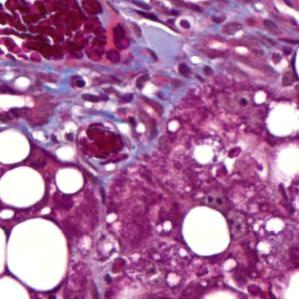steatosis: (10, 218, 74, 286), (182, 201, 232, 259), (0, 168, 46, 206), (0, 125, 34, 163), (53, 167, 85, 197)
